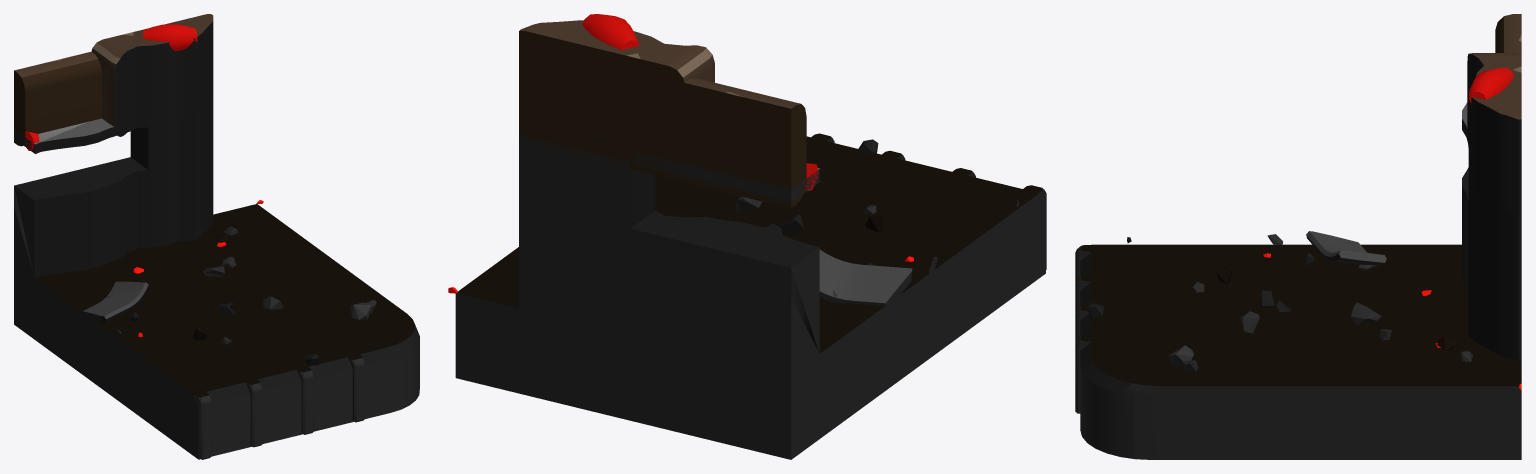
Rendered from bronze_pump_br_wreck.glb.
3 renders of one model, left to right at view 1: azimuth 30°, elevation 25°; view 2: azimuth 150°, elevation 25°; view 3: azimuth 270°, elevation 25°, orthographic. The views are drawn at different scales.
Visible parts, largest first — view 1: bronze_pump_br_wreck; view 2: bronze_pump_br_wreck; view 3: bronze_pump_br_wreck.
Boxes of the visible parts, x1,y1,x2,y2 form: bronze_pump_br_wreck: [14, 14, 419, 459]; bronze_pump_br_wreck: [448, 14, 1046, 459]; bronze_pump_br_wreck: [1075, 14, 1521, 459].
Size of the model in its own units: 19.44 by 20.58 by 25.29.
